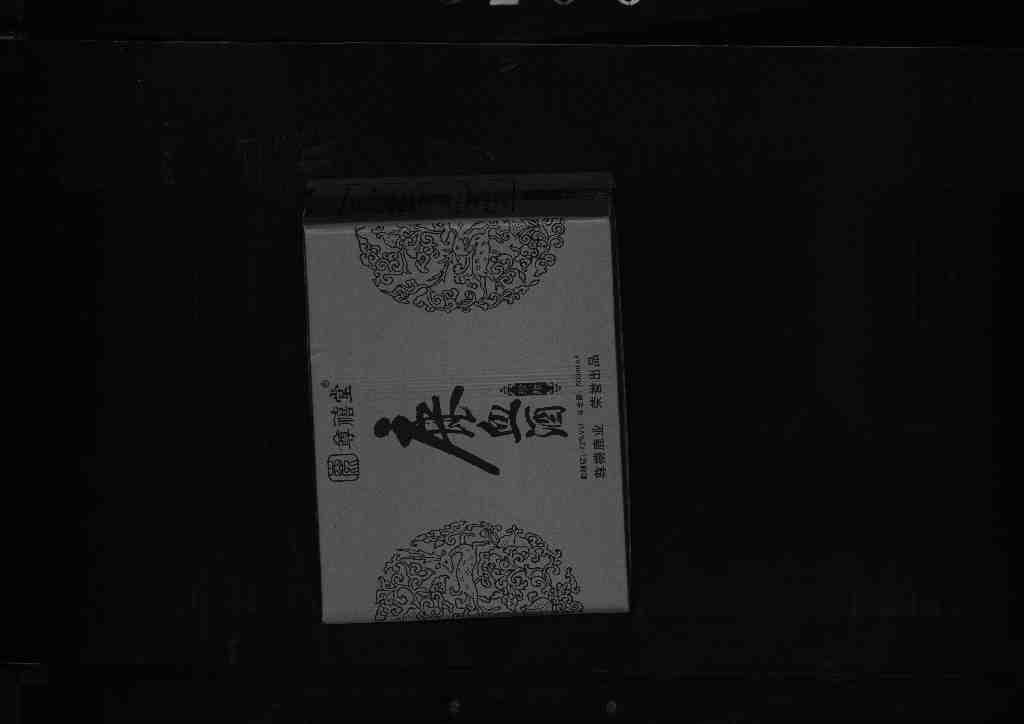box: (301, 184, 638, 627)
